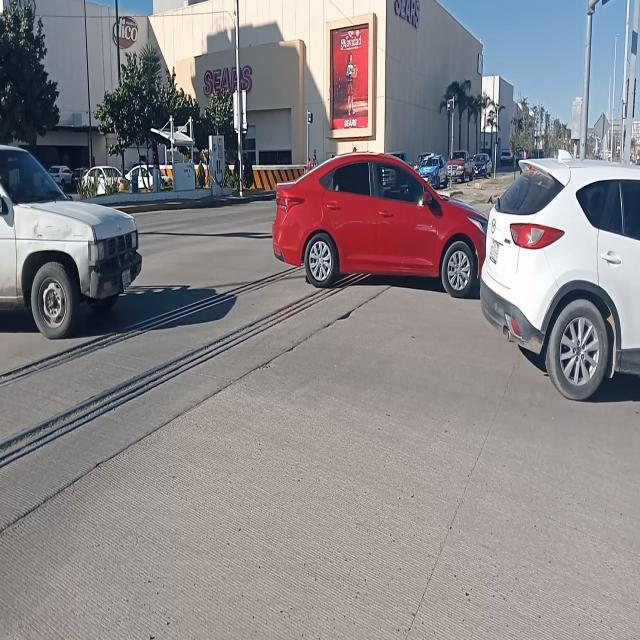Auto: (268, 139, 484, 301), (446, 142, 477, 182)
